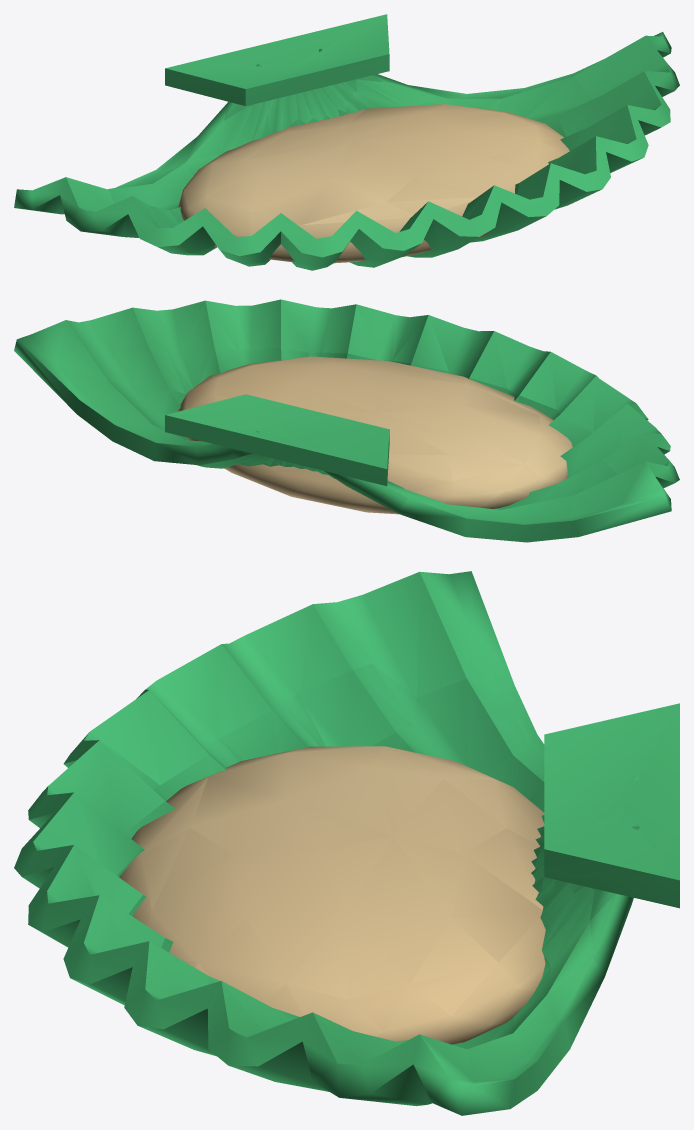
The model's file is shore_toy_mould_shell_lod1.glb.
3 renders of one model, top to bottom at view 1: azimuth 30°, elevation 25°; view 2: azimuth 150°, elevation 25°; view 3: azimuth 270°, elevation 25°, orthographic. The views are drawn at different scales.
Visible parts, largest first — view 1: shore_toy_mould_shell.001; view 2: shore_toy_mould_shell.001; view 3: shore_toy_mould_shell.001.
Boxes of the visible parts, <box> form: shore_toy_mould_shell.001: <box>14,14,679,270</box>; shore_toy_mould_shell.001: <box>14,299,679,542</box>; shore_toy_mould_shell.001: <box>14,571,679,1115</box>.
Size of the model in its own units: 5.64 by 0.9896 by 3.02.
